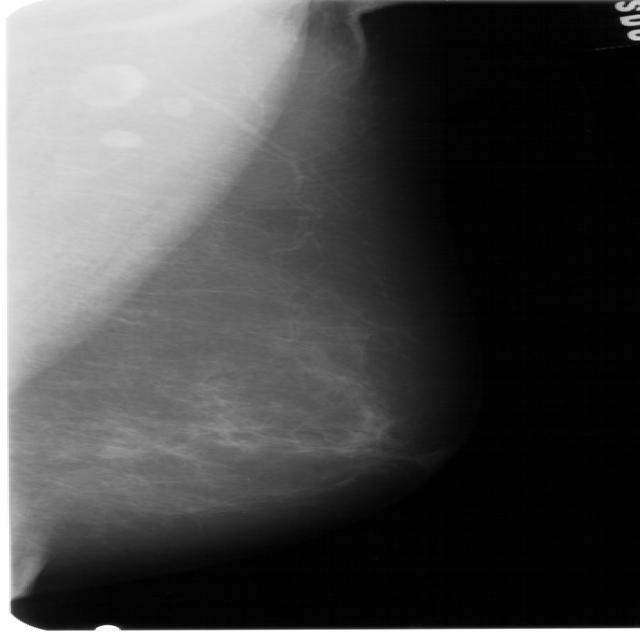tumour: (90, 442, 138, 460)
